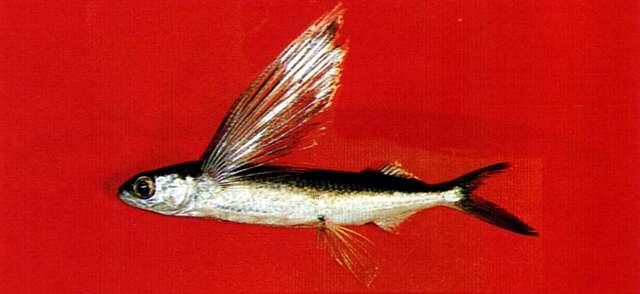Mulut: (108, 178, 136, 212)
Sirip Anal: (372, 201, 436, 244)
Sirip Dada: (195, 1, 362, 186)
Sirip Ekor: (444, 154, 544, 246)
Sirip Perut: (298, 212, 386, 294)
Sirip Punggung: (372, 149, 426, 183)
